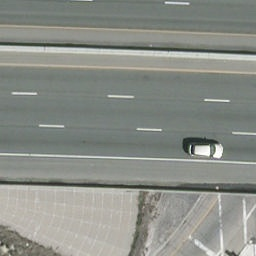car: (189, 143, 223, 159)
